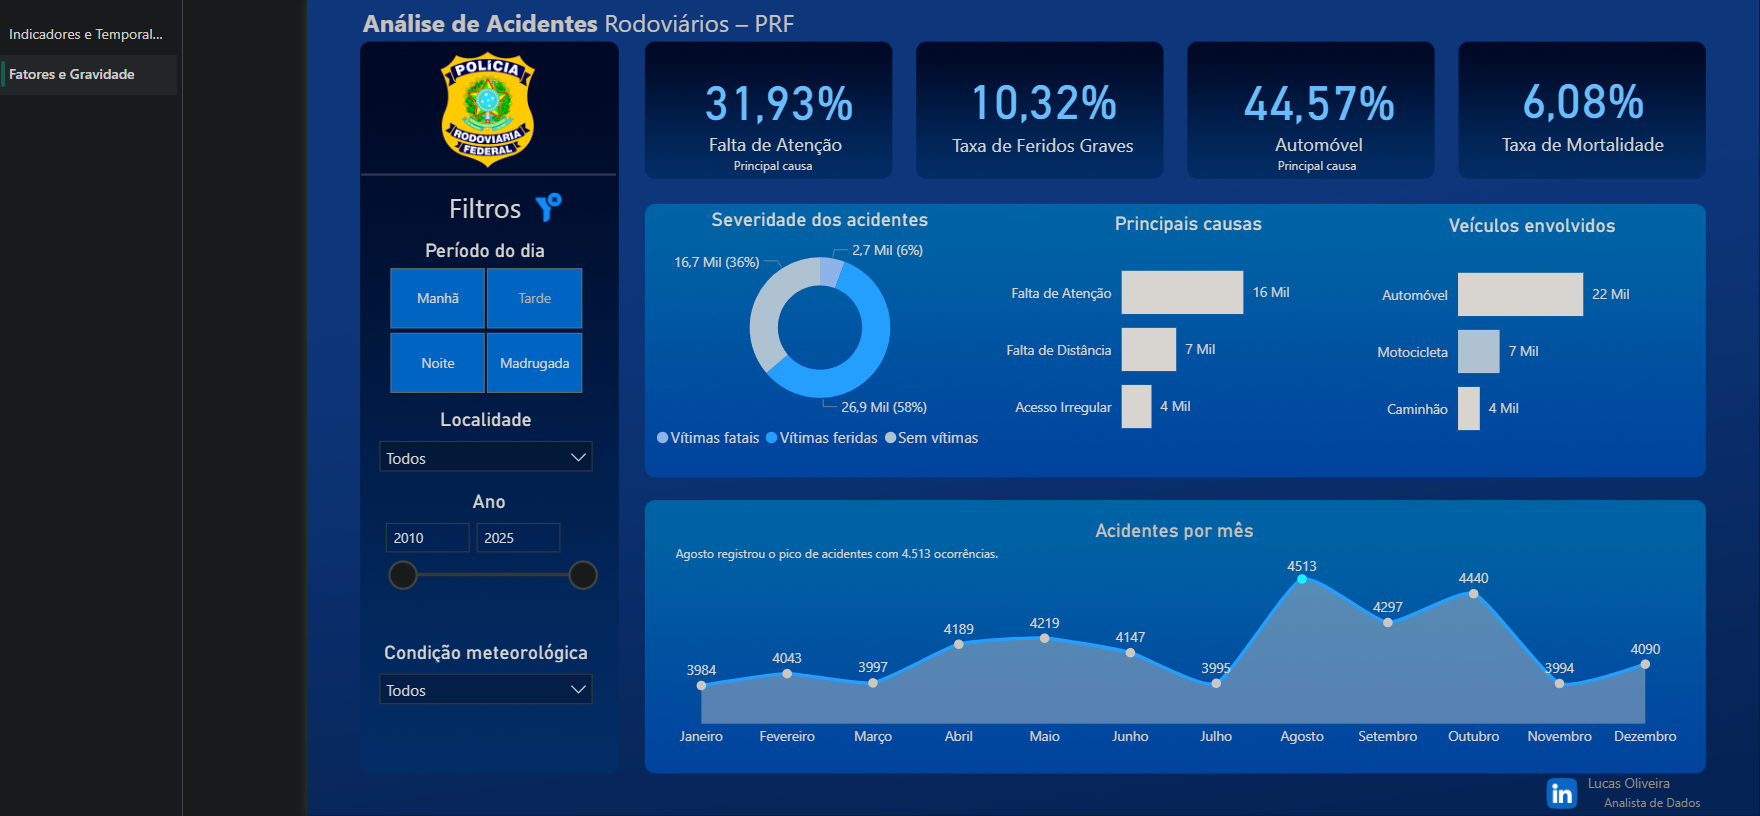

Layout of this report page (visuals, bound fields, positions):
{"tool":"powerbi","page":{"name":"Fatores e Gravidade","canvas":[1280,720],"ordinal":1},"visuals":[{"type":"textbox","box":[1123.9,675.2,130.8,44.8],"z":0},{"type":"card","title":"Causa Principal","fields":{"Values":["f_acidentes.% Representatividade Top Causa"]},"box":[341.4,56.4,149.8,59.3],"z":1000},{"type":"card","fields":{"Values":["f_acidentes.Causa Resumida"]},"box":[347.8,114.9,129.7,24.6],"z":2000},{"type":"textbox","box":[44.3,0,446.1,41.6],"z":3000},{"type":"simpleImageEBC4593F96F1425FB3D84C5BF02B5075","fields":{"imageURL":["f_acidentes.Imagem"]},"box":[73.9,38.5,169,115.4],"z":4000},{"type":"card","title":"Total de Mortes","fields":{"Values":["f_acidentes.% Taxa de Feridos Graves"]},"box":[546.6,41.8,204.3,106],"z":5000},{"type":"card","fields":{"Values":["f_acidentes.Veiculo Mais Envolvido"]},"box":[827.1,114.9,128.7,24.6],"z":6000},{"type":"card","title":"Causa Principal","fields":{"Values":["f_acidentes.% Impacto Veiculo"]},"box":[811.4,56,161.1,59.9],"z":7000},{"type":"card","title":"Total de Mortes","fields":{"Values":["f_acidentes.Taxa de Mortalidade"]},"box":[1022.6,43.2,204.3,101.2],"z":8000},{"type":"clusteredBarChart","title":"Veículos envolvidos","fields":{"Category":["dim_veiculo.veiculo_agrupado"],"Y":["f_acidentes.Total Acidentes"]},"box":[932.2,183.7,294.7,223],"z":9000},{"type":"donutChart","title":"Severidade dos acidentes","fields":{"Category":["dim_classificacao.Classificação Visual"],"Y":["f_acidentes.Total Acidentes"]},"box":[302.6,183.7,299.6,221],"z":10000},{"type":"lineChart","title":"Acidentes por mês","fields":{"Category":["dim_tempo.Nome_Mes"],"Y":["f_acidentes.Total Acidentes"]},"box":[302.6,447,924.4,225],"z":11000},{"type":"slicer","title":"Localidade","fields":{"Values":["dim_local.municipio"]},"box":[54,359.5,208.3,72.7],"z":12000},{"type":"clusteredBarChart","title":"Principais causas","fields":{"Category":["dim_causa.Causa Resumida Coluna"],"Y":["f_acidentes.Total Acidentes"]},"box":[609.1,181.7,336,223],"z":13000},{"type":"slicer","title":"Condição meteorológica","fields":{"Values":["dim_clima.condicao_metereologica"]},"box":[54,559.9,208.3,80.6],"z":14000},{"type":"slicer","title":"Período do dia","fields":{"Values":["f_acidentes.Fase Dia"]},"box":[47.7,205.2,218.8,147.8],"z":15000},{"type":"shape","box":[47.7,144,224.7,20.4],"z":16000},{"type":"actionButton","box":[195.5,166,34.4,34.4],"z":17000},{"type":"textbox","box":[119.8,161.1,75.6,44.2],"z":18000},{"type":"actionButton","box":[1088.4,679.8,35.4,40.3],"z":19000},{"type":"slicer","title":"Ano","fields":{"Values":["dim_tempo.ano"]},"box":[56,432.2,208.3,108.1],"z":20000},{"type":"textbox","box":[371.3,130.7,81.5,27.5],"z":21000},{"type":"textbox","box":[850.7,130.7,81.5,27.5],"z":22000},{"type":"textbox","box":[320.2,472.5,318.3,27.5],"z":23000}]}

Visuals, with their boxes on the page's 1280x720 design canvas (x1, y1, x2, y2). These are canvas units, not pixel positions in the 1760x816 screenshot, which may show the page scaled, cropped or inside an application window:
textbox: (x1=1124, y1=675, x2=1255, y2=720)
"Causa Principal" card: (x1=341, y1=56, x2=491, y2=116)
card - f_acidentes.Causa Resumida: (x1=348, y1=115, x2=478, y2=140)
textbox: (x1=44, y1=0, x2=490, y2=42)
simpleImageEBC4593F96F1425FB3D84C5BF02B5075 - f_acidentes.Imagem: (x1=74, y1=38, x2=243, y2=154)
"Total de Mortes" card: (x1=547, y1=42, x2=751, y2=148)
card - f_acidentes.Veiculo Mais Envolvido: (x1=827, y1=115, x2=956, y2=140)
"Causa Principal" card: (x1=811, y1=56, x2=972, y2=116)
"Total de Mortes" card: (x1=1023, y1=43, x2=1227, y2=144)
"Veículos envolvidos" clusteredBarChart: (x1=932, y1=184, x2=1227, y2=407)
"Severidade dos acidentes" donutChart: (x1=303, y1=184, x2=602, y2=405)
"Acidentes por mês" lineChart: (x1=303, y1=447, x2=1227, y2=672)
"Localidade" slicer: (x1=54, y1=360, x2=262, y2=432)
"Principais causas" clusteredBarChart: (x1=609, y1=182, x2=945, y2=405)
"Condição meteorológica" slicer: (x1=54, y1=560, x2=262, y2=640)
"Período do dia" slicer: (x1=48, y1=205, x2=266, y2=353)
shape: (x1=48, y1=144, x2=272, y2=164)
actionButton: (x1=196, y1=166, x2=230, y2=200)
textbox: (x1=120, y1=161, x2=195, y2=205)
actionButton: (x1=1088, y1=680, x2=1124, y2=720)
"Ano" slicer: (x1=56, y1=432, x2=264, y2=540)
textbox: (x1=371, y1=131, x2=453, y2=158)
textbox: (x1=851, y1=131, x2=932, y2=158)
textbox: (x1=320, y1=472, x2=638, y2=500)
